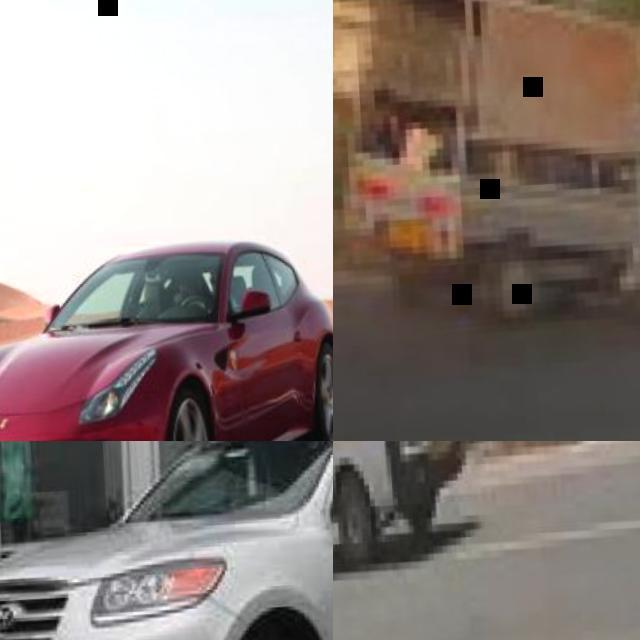car: (1, 437, 354, 639), (1, 238, 336, 443)
